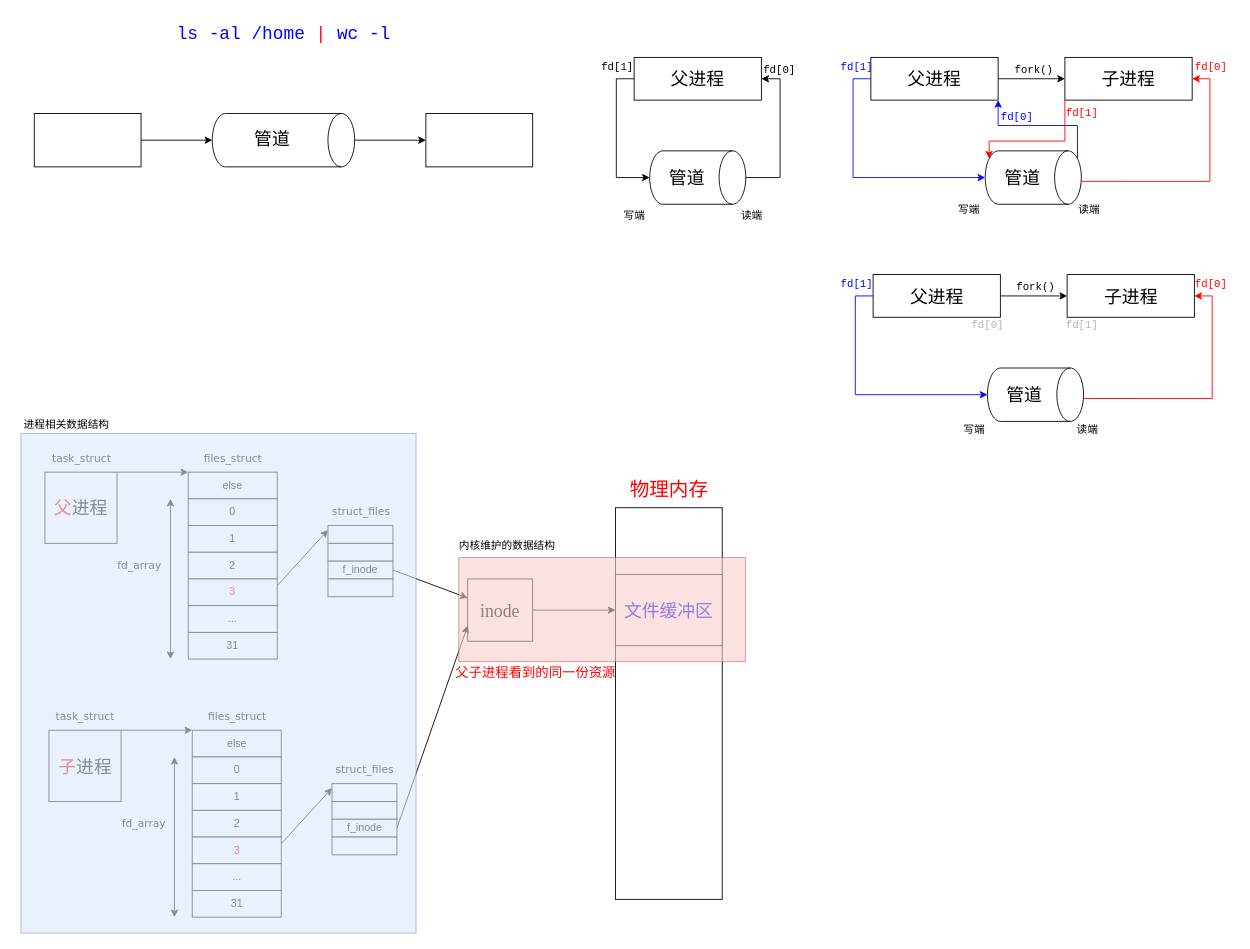
Image size: 1250x949. Some labels were removed from this diagram. The shapes that lost their labels are listed below. From the top down, each one's centre as x and y in pixels, then its label:
At (x=87, y=140): "ls 进程".
At (x=479, y=140): "wc 进程".
